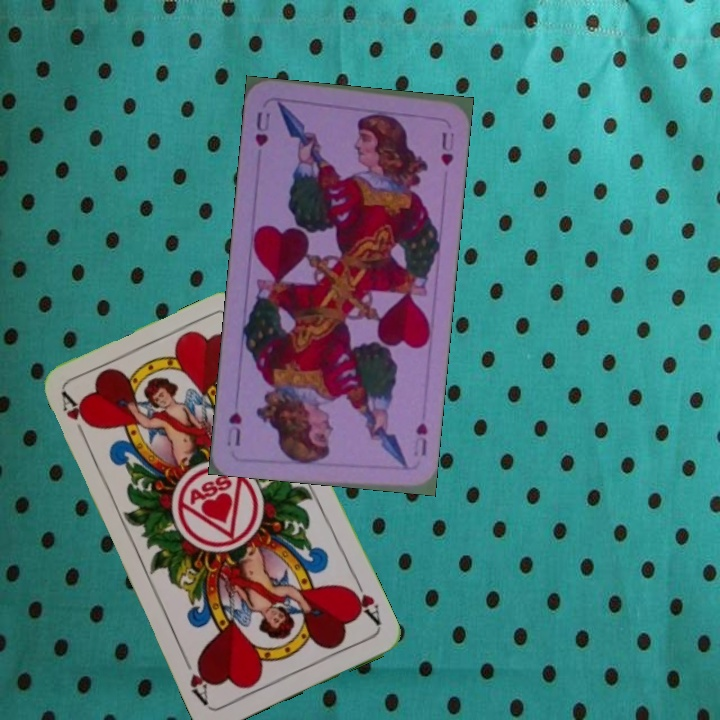HA: (343, 574, 384, 629), (57, 388, 96, 444)
HU: (251, 108, 273, 149), (407, 419, 430, 458)
